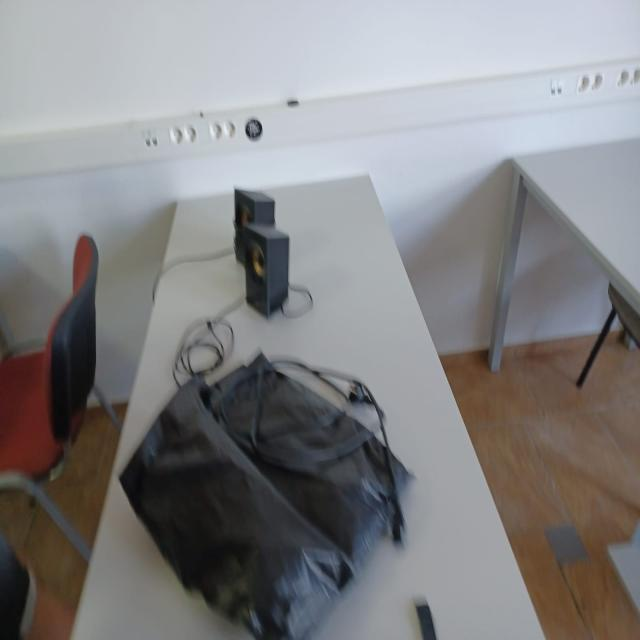Laptops_bbox: (124, 309, 391, 627)
